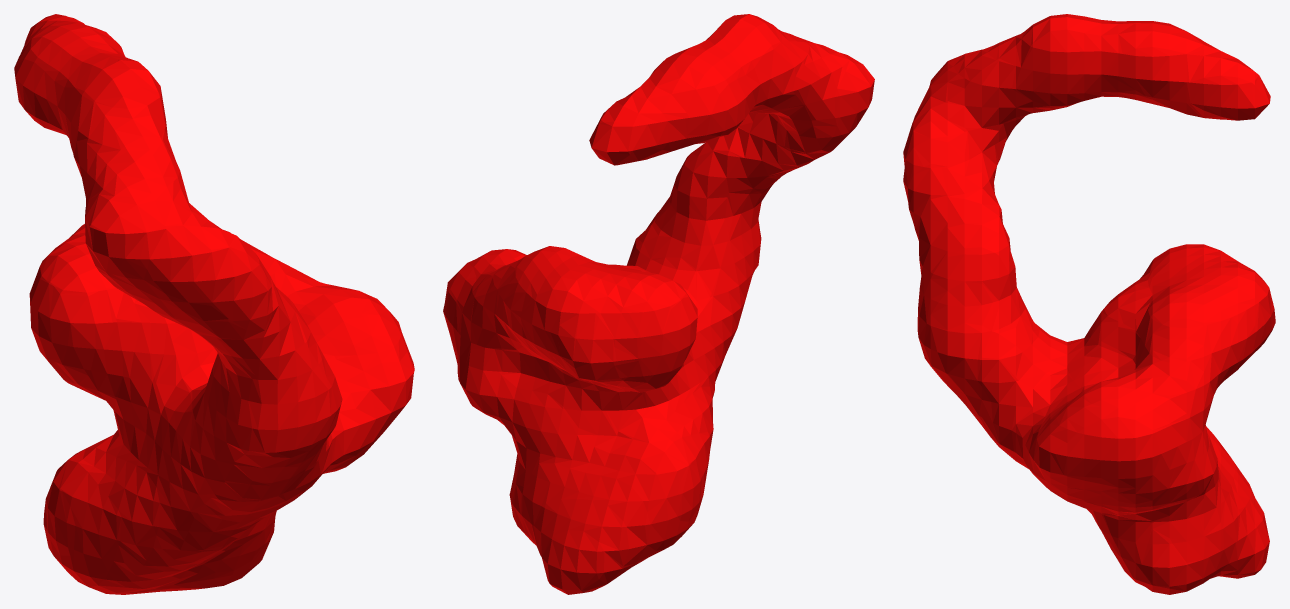
File: yebG_coarse.dae
The picture shows the model from 3 angles, left to right: view 1: azimuth 30°, elevation 25°; view 2: azimuth 150°, elevation 25°; view 3: azimuth 270°, elevation 25°; orthographic projection. The views are drawn at different scales.
Parts seen in each view (by area): view 1: yebG; view 2: yebG; view 3: yebG.
Boxes of the visible parts, x1,y1,x2,y2 form: yebG: (14, 14, 414, 594); yebG: (443, 14, 874, 594); yebG: (903, 14, 1275, 594).
Size of the model in its own units: 43.36 by 64.14 by 41.62.
